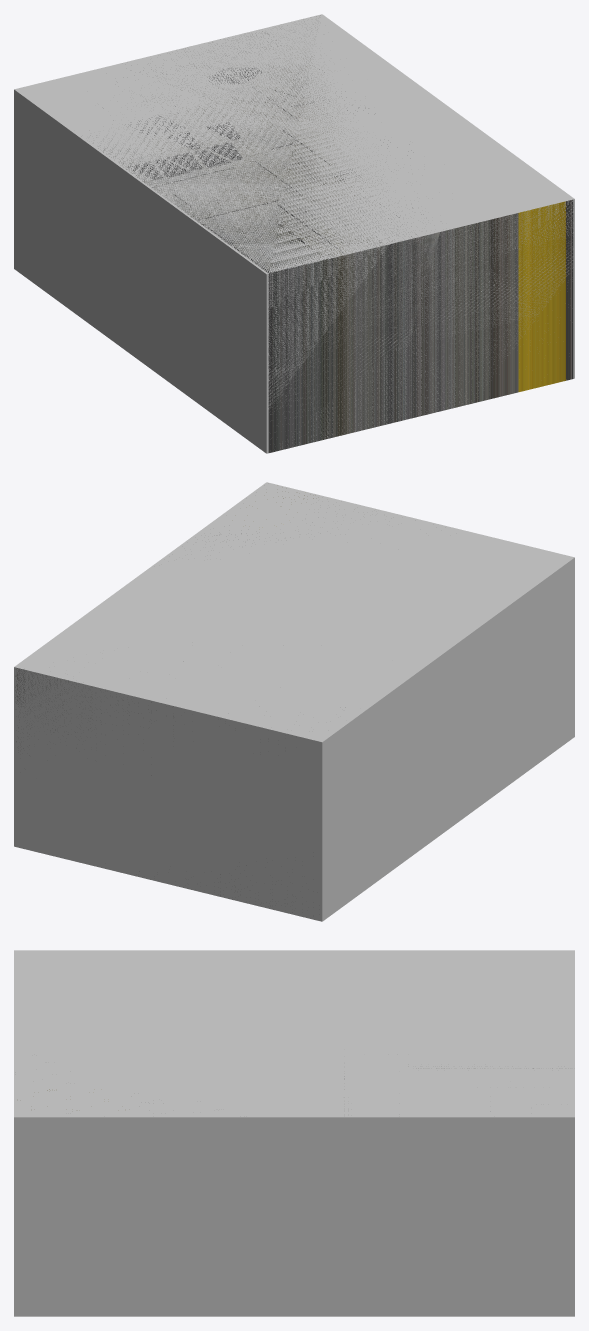
File: SciFi_duct_T.DAE
3 views of the same model, one above another, from view 1: azimuth 30°, elevation 25°; view 2: azimuth 150°, elevation 25°; view 3: azimuth 270°, elevation 25° (orthographic). The views are drawn at different scales.
Visible parts, largest first — view 1: bounds, colbox-01, hvac_duct_T; view 2: bounds; view 3: bounds.
Boxes of the visible parts, box(x1,y1,x2,y2) form: bounds: box(14, 14, 574, 453); colbox-01: box(81, 15, 573, 452); hvac_duct_T: box(273, 232, 439, 439); bounds: box(14, 482, 574, 921); bounds: box(14, 950, 574, 1316).
Size of the model in its own units: 141 by 200 by 78.4.
